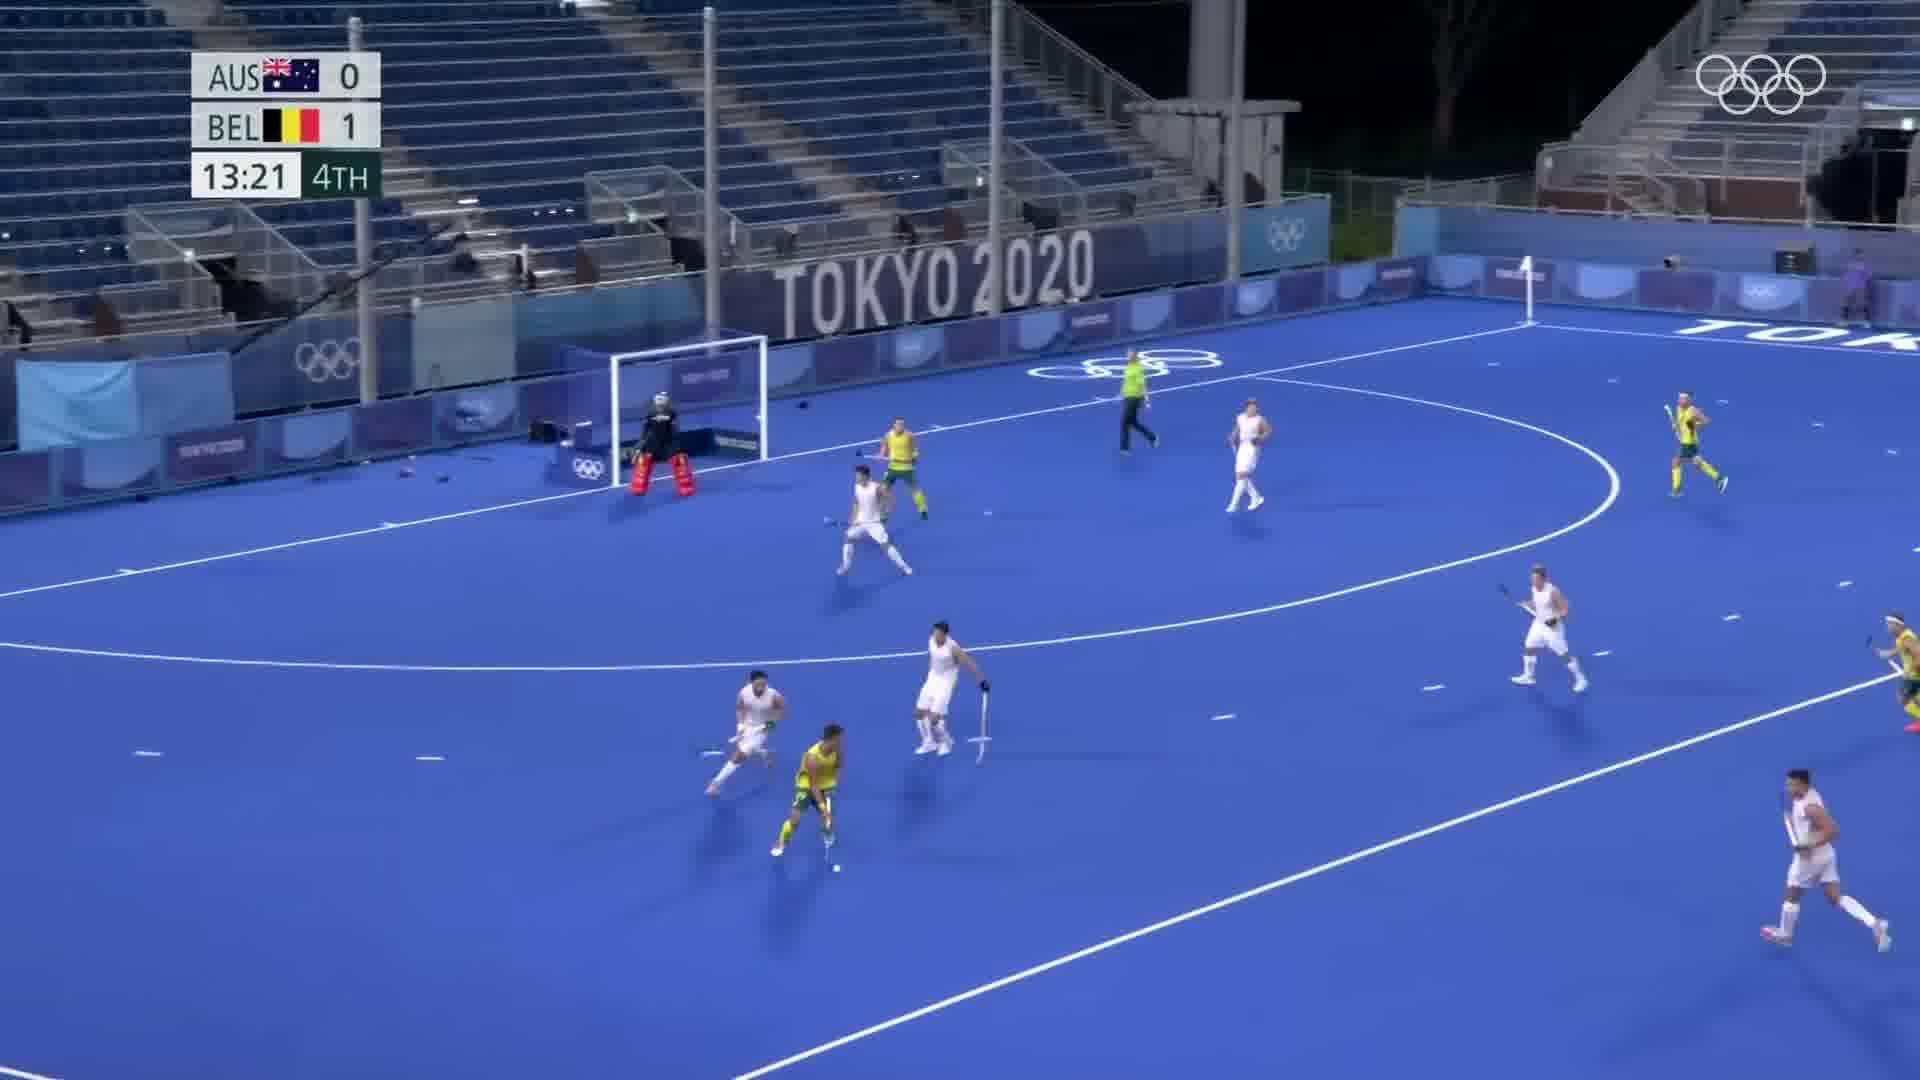ball: (829, 851, 853, 880)
